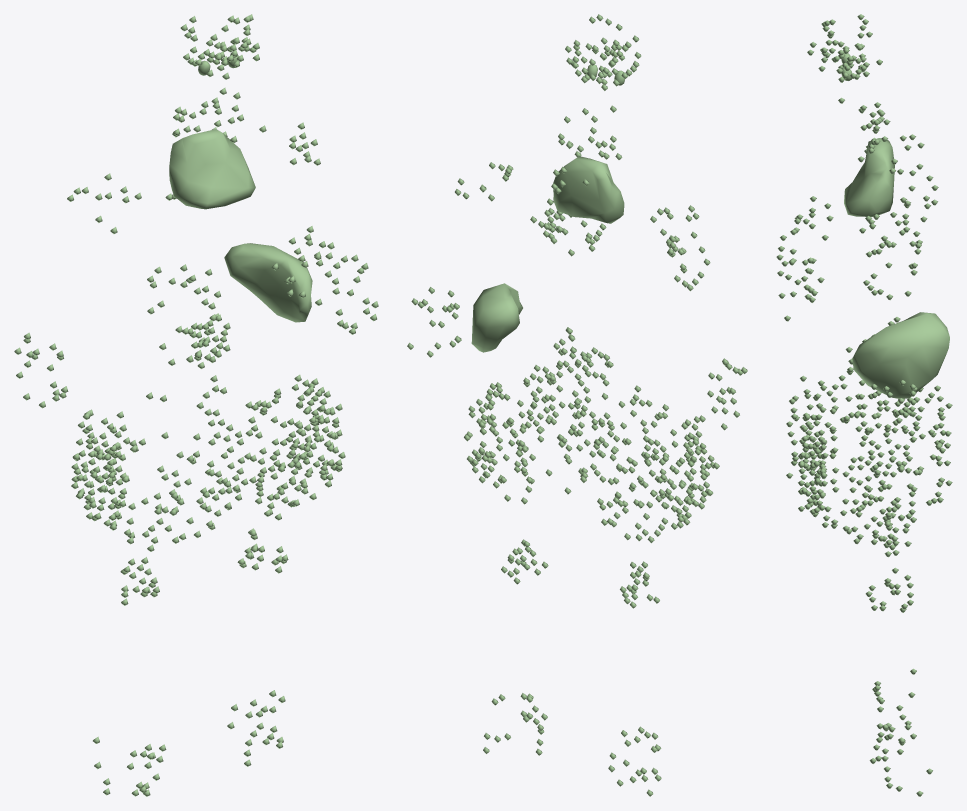
The model's file is pediatric_infant_male.lymphatic.LOD2.glb.
3 renders of one model, left to right at view 1: azimuth 30°, elevation 25°; view 2: azimuth 150°, elevation 25°; view 3: azimuth 270°, elevation 25°, orthographic. The views are drawn at different scales.
Parts seen in each view (by area): view 1: PEDIATRIC.INFANT.MALE.LYMPHATIC.LYMPHATIC_NODES_TRUNK, PEDIATRIC.INFANT.MALE.LYMPHATIC.THYMUS, PEDIATRIC.INFANT.MALE.LYMPHATIC.SPLEEN, PEDIATRIC.INFANT.MALE.LYMPHATIC.LYMPHATIC_NODES_ET, PEDIATRIC.INFANT.MALE.LYMPHATIC.LYMPHATIC_NODES_LEGS, PEDIATRIC.INFANT.MALE.LYMPHATIC.LYMPHATIC_NODES_ARMS, PEDIATRIC.INFANT.MALE.LYMPHATIC.LYMPHATIC_NODES_THORACIC, PEDIATRIC.INFANT.MALE.LYMPHATIC.LYMPHATIC_NODES_HEAD; view 2: PEDIATRIC.INFANT.MALE.LYMPHATIC.LYMPHATIC_NODES_TRUNK, PEDIATRIC.INFANT.MALE.LYMPHATIC.THYMUS, PEDIATRIC.INFANT.MALE.LYMPHATIC.SPLEEN, PEDIATRIC.INFANT.MALE.LYMPHATIC.LYMPHATIC_NODES_ET, PEDIATRIC.INFANT.MALE.LYMPHATIC.LYMPHATIC_NODES_THORACIC, PEDIATRIC.INFANT.MALE.LYMPHATIC.LYMPHATIC_NODES_LEGS, PEDIATRIC.INFANT.MALE.LYMPHATIC.LYMPHATIC_NODES_ARMS, PEDIATRIC.INFANT.MALE.LYMPHATIC.LYMPHATIC_NODES_HEAD; view 3: PEDIATRIC.INFANT.MALE.LYMPHATIC.LYMPHATIC_NODES_TRUNK, PEDIATRIC.INFANT.MALE.LYMPHATIC.SPLEEN, PEDIATRIC.INFANT.MALE.LYMPHATIC.THYMUS, PEDIATRIC.INFANT.MALE.LYMPHATIC.LYMPHATIC_NODES_ET, PEDIATRIC.INFANT.MALE.LYMPHATIC.LYMPHATIC_NODES_ARMS, PEDIATRIC.INFANT.MALE.LYMPHATIC.LYMPHATIC_NODES_LEGS, PEDIATRIC.INFANT.MALE.LYMPHATIC.LYMPHATIC_NODES_THORACIC, PEDIATRIC.INFANT.MALE.LYMPHATIC.LYMPHATIC_NODES_HEAD.
Part boxes in pixels (x1,y1,x2,y2): PEDIATRIC.INFANT.MALE.LYMPHATIC.LYMPHATIC_NODES_TRUNK: [67, 122, 345, 605]; PEDIATRIC.INFANT.MALE.LYMPHATIC.THYMUS: [169, 129, 255, 209]; PEDIATRIC.INFANT.MALE.LYMPHATIC.SPLEEN: [224, 243, 312, 322]; PEDIATRIC.INFANT.MALE.LYMPHATIC.LYMPHATIC_NODES_ET: [180, 14, 259, 79]; PEDIATRIC.INFANT.MALE.LYMPHATIC.LYMPHATIC_NODES_LEGS: [93, 690, 285, 796]; PEDIATRIC.INFANT.MALE.LYMPHATIC.LYMPHATIC_NODES_ARMS: [14, 254, 378, 408]; PEDIATRIC.INFANT.MALE.LYMPHATIC.LYMPHATIC_NODES_THORACIC: [159, 125, 230, 368]; PEDIATRIC.INFANT.MALE.LYMPHATIC.LYMPHATIC_NODES_HEAD: [173, 87, 243, 143]; PEDIATRIC.INFANT.MALE.LYMPHATIC.LYMPHATIC_NODES_TRUNK: [455, 162, 719, 608]; PEDIATRIC.INFANT.MALE.LYMPHATIC.THYMUS: [553, 156, 624, 223]; PEDIATRIC.INFANT.MALE.LYMPHATIC.SPLEEN: [471, 283, 522, 352]; PEDIATRIC.INFANT.MALE.LYMPHATIC.LYMPHATIC_NODES_ET: [565, 14, 641, 90]; PEDIATRIC.INFANT.MALE.LYMPHATIC.LYMPHATIC_NODES_THORACIC: [543, 166, 613, 386]; PEDIATRIC.INFANT.MALE.LYMPHATIC.LYMPHATIC_NODES_LEGS: [483, 693, 661, 796]; PEDIATRIC.INFANT.MALE.LYMPHATIC.LYMPHATIC_NODES_ARMS: [407, 287, 747, 430]; PEDIATRIC.INFANT.MALE.LYMPHATIC.LYMPHATIC_NODES_HEAD: [558, 105, 622, 159]; PEDIATRIC.INFANT.MALE.LYMPHATIC.LYMPHATIC_NODES_TRUNK: [776, 116, 952, 612]; PEDIATRIC.INFANT.MALE.LYMPHATIC.SPLEEN: [852, 312, 949, 398]; PEDIATRIC.INFANT.MALE.LYMPHATIC.THYMUS: [844, 138, 894, 216]; PEDIATRIC.INFANT.MALE.LYMPHATIC.LYMPHATIC_NODES_ET: [807, 14, 882, 82]; PEDIATRIC.INFANT.MALE.LYMPHATIC.LYMPHATIC_NODES_ARMS: [859, 229, 920, 450]; PEDIATRIC.INFANT.MALE.LYMPHATIC.LYMPHATIC_NODES_LEGS: [869, 668, 932, 796]; PEDIATRIC.INFANT.MALE.LYMPHATIC.LYMPHATIC_NODES_THORACIC: [862, 145, 938, 342]; PEDIATRIC.INFANT.MALE.LYMPHATIC.LYMPHATIC_NODES_HEAD: [838, 97, 890, 162].
Size of the model in its own units: 0.2414 by 0.5134 by 0.1098.
